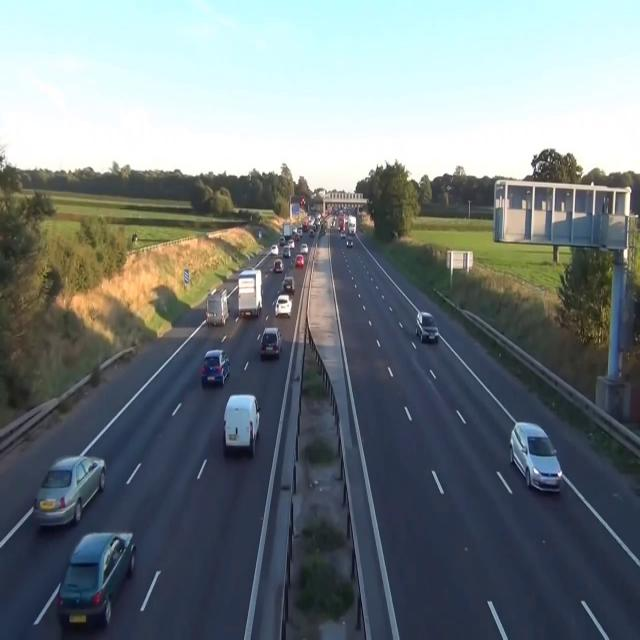belum terisi: (57, 527, 141, 627), (502, 406, 570, 515), (27, 446, 113, 527), (216, 384, 266, 461), (233, 267, 267, 323), (200, 339, 232, 394), (202, 278, 232, 335), (412, 302, 443, 356), (258, 312, 284, 368), (274, 287, 294, 323)
